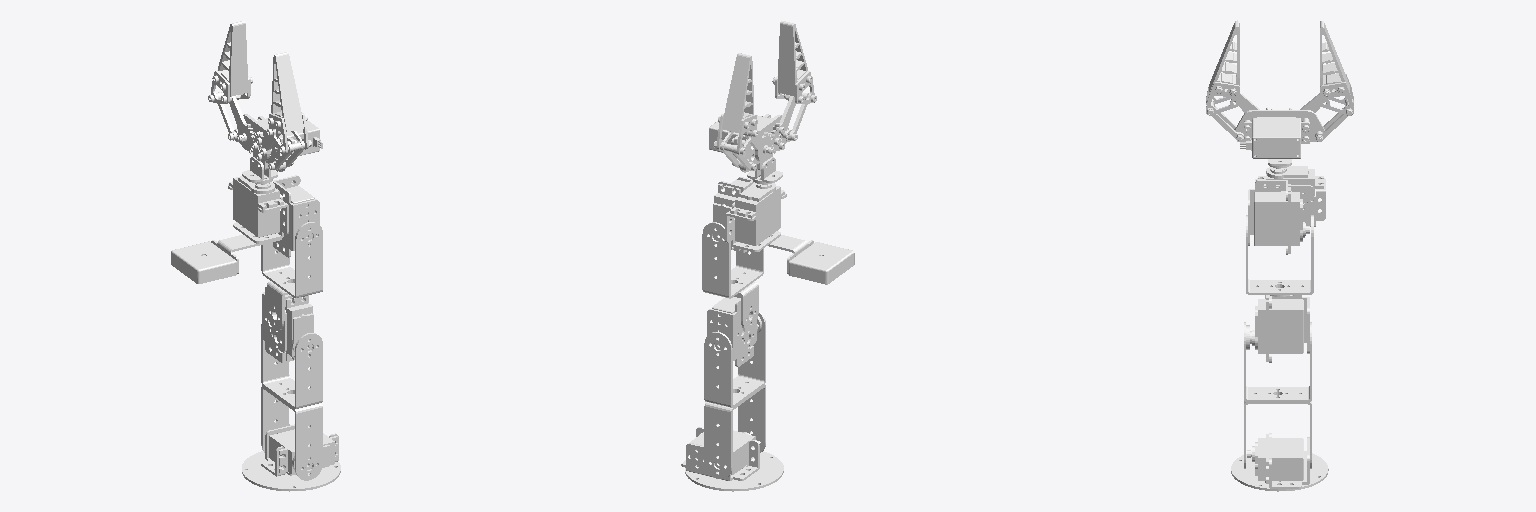
URDF robot description (robotic_arm):
<?xml version="1.0" encoding="utf-8"?>
<!-- This URDF was automatically created by SolidWorks to URDF Exporter! Originally created by Stephen Brawner (brawner@gmail.com) 
     Commit Version: 1.6.0-4-g7f85cfe  Build Version: 1.6.7995.38578
     For more information, please see http://wiki.ros.org/sw_urdf_exporter -->
<robot
  name="robotic_arm">
  <link
    name="base_link">
    <inertial>
      <origin
        xyz="-0.0488775676763532 -0.00426912221386272 0.0385255666166542"
        rpy="0 0 0" />
      <mass
        value="0.313917582917524" />
      <inertia
        ixx="0.000314378044193311"
        ixy="-1.29221042485928E-06"
        ixz="-1.07565478957318E-07"
        iyy="0.000824733815729961"
        iyz="-1.07566303126653E-07"
        izz="0.00111175468064779" />
    </inertial>
    <visual>
      <origin
        xyz="0 0 0"
        rpy="0 0 0" />
      <geometry>
        <mesh
          filename="package://robotic_arm/meshes/base_link.STL" />
      </geometry>
      <material
        name="">
        <color
          rgba="1 1 1 1" />
      </material>
    </visual>
    <collision>
      <origin
        xyz="0 0 0"
        rpy="0 0 0" />
      <geometry>
        <mesh
          filename="package://robotic_arm/meshes/base_link.STL" />
      </geometry>
    </collision>
  </link>
  <link
    name="link_1">
    <inertial>
      <origin
        xyz="0.00818310476802101 0.000757091649593302 -0.00384568951518023"
        rpy="0 0 0" />
      <mass
        value="0.047869382890734" />
      <inertia
        ixx="1.05788936812143E-05"
        ixy="-1.520719618917E-07"
        ixz="6.11635523293496E-11"
        iyy="1.13546709432305E-05"
        iyz="-1.45081779343006E-07"
        izz="1.91682148249396E-05" />
    </inertial>
    <visual>
      <origin
        xyz="0 0 0"
        rpy="0 0 0" />
      <geometry>
        <mesh
          filename="package://robotic_arm/meshes/link_1.STL" />
      </geometry>
      <material
        name="">
        <color
          rgba="1 1 1 1" />
      </material>
    </visual>
    <collision>
      <origin
        xyz="0 0 0"
        rpy="0 0 0" />
      <geometry>
        <mesh
          filename="package://robotic_arm/meshes/link_1.STL" />
      </geometry>
    </collision>
  </link>
  <joint
    name="joint_1"
    type="revolute">
    <origin
      xyz="0 0 0.1085"
      rpy="0 0 0" />
    <parent
      link="base_link" />
    <child
      link="link_1" />
    <axis
      xyz="0 0 1" />
    <limit
      lower="-1.57"
      upper="1.57"
      effort="0"
      velocity="0" />
  </joint>
  <link
    name="link_2">
    <inertial>
      <origin
        xyz="0.0524999999999998 -4.67291136341252E-16 0.00149999999999839"
        rpy="0 0 0" />
      <mass
        value="0.0164131680263508" />
      <inertia
        ixx="1.04660159488077E-05"
        ixy="4.39603315267849E-20"
        ixz="-7.7485888427479E-20"
        iyy="1.61925047093449E-05"
        iyz="8.3123866514623E-21"
        izz="7.4788839495538E-06" />
    </inertial>
    <visual>
      <origin
        xyz="0 0 0"
        rpy="0 0 0" />
      <geometry>
        <mesh
          filename="package://robotic_arm/meshes/link_2.STL" />
      </geometry>
      <material
        name="">
        <color
          rgba="1 1 1 1" />
      </material>
    </visual>
    <collision>
      <origin
        xyz="0 0 0"
        rpy="0 0 0" />
      <geometry>
        <mesh
          filename="package://robotic_arm/meshes/link_2.STL" />
      </geometry>
    </collision>
  </link>
  <joint
    name="joint_2"
    type="revolute">
    <origin
      xyz="0 0 0"
      rpy="1.5708 -1.5708 0" />
    <parent
      link="link_1" />
    <child
      link="link_2" />
    <axis
      xyz="0 0 1" />
    <limit
      lower="-1.57"
      upper="1.57"
      effort="0"
      velocity="0" />
  </joint>
  <link
    name="link_3">
    <inertial>
      <origin
        xyz="0.0203058533362234 0.00114290586966836 -0.0002415976727554"
        rpy="0 0 0" />
      <mass
        value="0.049761015025671" />
      <inertia
        ixx="1.21511693273594E-05"
        ixy="1.29606987649015E-07"
        ixz="1.52166973047618E-07"
        iyy="1.97699131875991E-05"
        iyz="-1.45081779343023E-07"
        izz="1.16329572702899E-05" />
    </inertial>
    <visual>
      <origin
        xyz="0 0 0"
        rpy="0 0 0" />
      <geometry>
        <mesh
          filename="package://robotic_arm/meshes/link_3.STL" />
      </geometry>
      <material
        name="">
        <color
          rgba="1 1 1 1" />
      </material>
    </visual>
    <collision>
      <origin
        xyz="0 0 0"
        rpy="0 0 0" />
      <geometry>
        <mesh
          filename="package://robotic_arm/meshes/link_3.STL" />
      </geometry>
    </collision>
  </link>
  <joint
    name="joint_3"
    type="revolute">
    <origin
      xyz="0.105 0 0"
      rpy="0 0 0" />
    <parent
      link="link_2" />
    <child
      link="link_3" />
    <axis
      xyz="0 0 1" />
    <limit
      lower="-1.57"
      upper="1.57"
      effort="0"
      velocity="0" />
  </joint>
  <link
    name="link_4">
    <inertial>
      <origin
        xyz="0.0220818202657082 -0.0106450882977658 -0.00271627053026499"
        rpy="0 0 0" />
      <mass
        value="0.0888678346597293" />
      <inertia
        ixx="2.49095518132751E-05"
        ixy="-2.90065246264221E-07"
        ixz="1.45022265741033E-07"
        iyy="1.83353304476433E-05"
        iyz="3.04143790592481E-07"
        izz="1.61281948416289E-05" />
    </inertial>
    <visual>
      <origin
        xyz="0 0 0"
        rpy="0 0 0" />
      <geometry>
        <mesh
          filename="package://robotic_arm/meshes/link_4.STL" />
      </geometry>
      <material
        name="">
        <color
          rgba="1 1 1 1" />
      </material>
    </visual>
    <collision>
      <origin
        xyz="0 0 0"
        rpy="0 0 0" />
      <geometry>
        <mesh
          filename="package://robotic_arm/meshes/link_4.STL" />
      </geometry>
    </collision>
  </link>
  <joint
    name="joint_4"
    type="revolute">
    <origin
      xyz="0.0975 0 0"
      rpy="0 0 1.5708" />
    <parent
      link="link_3" />
    <child
      link="link_4" />
    <axis
      xyz="0 0 1" />
    <limit
      lower="-1.57"
      upper="1.0"
      effort="0"
      velocity="0" />
  </joint>
  <link
    name="link_5">
    <inertial>
      <origin
        xyz="-0.00998918013193207 0.00113654652126958 0.0425781452476858"
        rpy="0 0 0" />
      <mass
        value="0.0685356085063359" />
      <inertia
        ixx="1.41975278066634E-05"
        ixy="-1.64594730735332E-09"
        ixz="9.4317960473432E-11"
        iyy="1.07225683731099E-05"
        iyz="2.72739013207629E-08"
        izz="1.26068044784664E-05" />
    </inertial>
    <visual>
      <origin
        xyz="0 0 0"
        rpy="0 0 0" />
      <geometry>
        <mesh
          filename="package://robotic_arm/meshes/link_5.STL" />
      </geometry>
      <material
        name="">
        <color
          rgba="1 1 1 1" />
      </material>
    </visual>
    <collision>
      <origin
        xyz="0 0 0"
        rpy="0 0 0" />
      <geometry>
        <mesh
          filename="package://robotic_arm/meshes/link_5.STL" />
      </geometry>
    </collision>
  </link>
  <joint
    name="joint_5"
    type="revolute">
    <origin
      xyz="0.02822 -0.0501 0"
      rpy="1.5708 0 0" />
    <parent
      link="link_4" />
    <child
      link="link_5" />
    <axis
      xyz="0 0 1" />
    <limit
      lower="-1.57"
      upper="1.57"
      effort="0"
      velocity="0" />
  </joint>

<link
  name="gripper">
</link>
<joint
  name="link5_gripper"
  type="fixed">
    <parent
      link="link_5" />
    <child
      link="gripper" />
    <origin
      xyz="0 0 0.12273"
      rpy="0.0 0.0 0" />
</joint>

</robot>

--- Facts derived from the render (not from the file) ---
The picture shows the robot from 3 angles, left to right: view 1: azimuth 30°, elevation 25°; view 2: azimuth 150°, elevation 25°; view 3: azimuth 270°, elevation 25°; orthographic projection.
Model robotic_arm with 7 links and 6 joints (5 revolute, 1 fixed), rooted at base_link, posed all joints at 0.
Links seen in each view (by area): view 1: link_5, link_4, link_2, link_3, link_1; view 2: link_5, link_4, link_2, link_3, link_1; view 3: link_5, link_4, link_3, link_1, link_2.
Boxes of the visible links, x1=… form: link_5: x1=208, y1=21, x2=322, y2=183; link_4: x1=171, y1=175, x2=319, y2=283; link_2: x1=261, y1=324, x2=322, y2=480; link_3: x1=261, y1=222, x2=322, y2=362; link_1: x1=242, y1=424, x2=340, y2=491; link_5: x1=709, y1=21, x2=816, y2=184; link_4: x1=713, y1=177, x2=854, y2=284; link_2: x1=704, y1=311, x2=765, y2=478; link_3: x1=702, y1=222, x2=763, y2=366; link_1: x1=681, y1=427, x2=783, y2=491; link_5: x1=1206, y1=20, x2=1353, y2=167; link_4: x1=1248, y1=166, x2=1325, y2=254; link_3: x1=1246, y1=215, x2=1313, y2=362; link_1: x1=1231, y1=433, x2=1328, y2=491; link_2: x1=1244, y1=322, x2=1311, y2=468.
Bounding box of the posed robot: 0.1395 × 0.1219 × 0.3908 m (x, y, z).
Meshes: 6 distinct files referenced, 5 mesh visuals loaded (5 binary STL); not drawn: 1 (reference not matched to a file when rendering).
